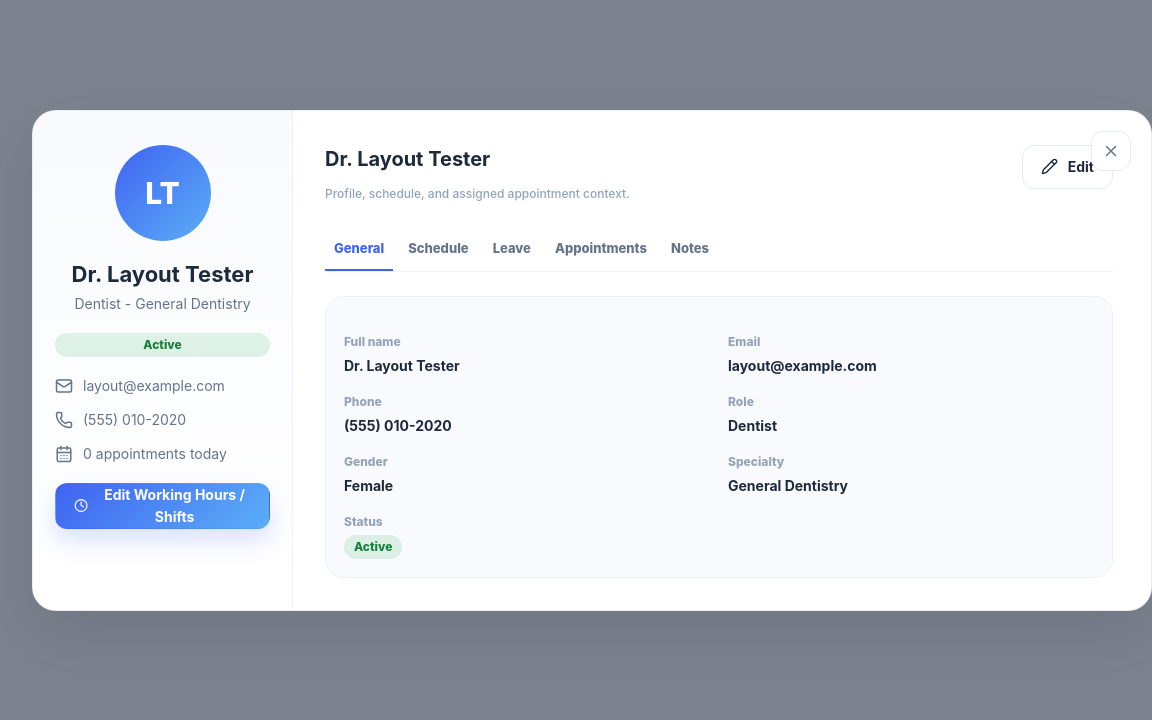
Test case: detail drawer layout › uses the wide shared staff detail drawer with compact tabs and contained leave content
This screenshot has width=1152, height=720.
Expected: the button "General" is shown, [325,238,393,270]
Expected: the button "Leave" is shown, [484,238,540,270]
Click the button "Schedule".
click(438, 254)  # box [399,238,478,270]
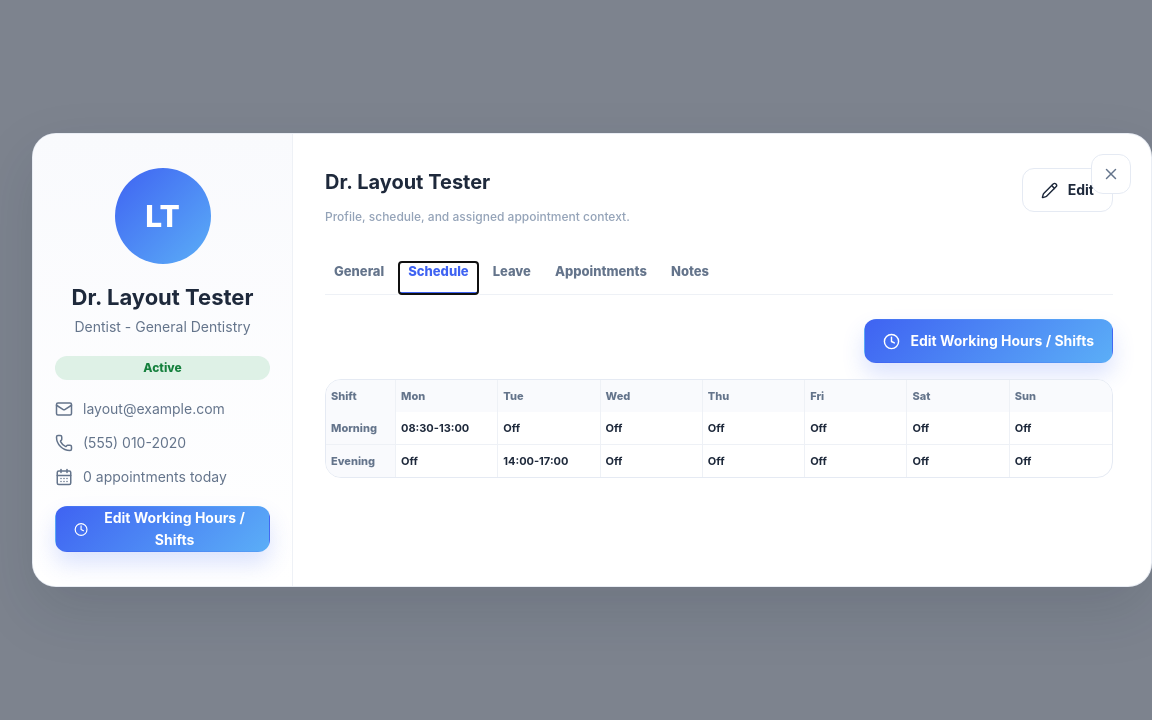
Click the button "Leave".
click(512, 278)  # box [484,262,540,294]
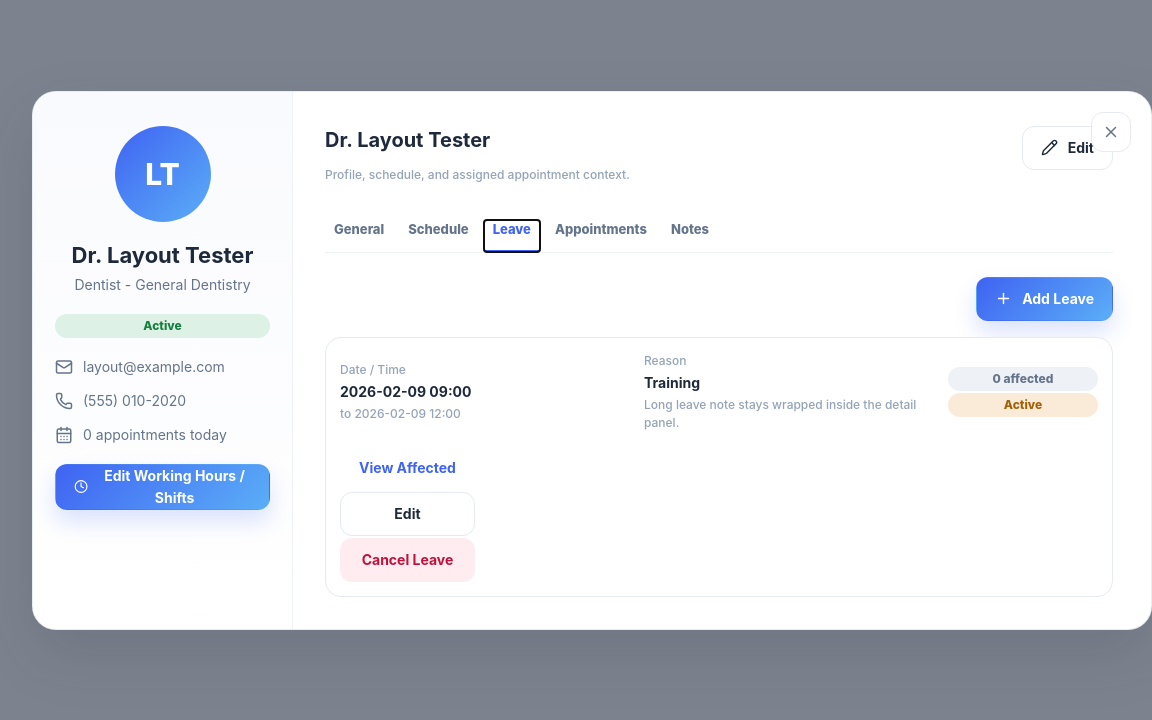
Expected: the text "Training" is shown, [644,374,700,390]
Expected: the text "Long leave note stays wrapped inside the detail panel." is shown, [644,396,934,432]
Expected: the text "0 affected" is shown, [948,366,1098,390]
